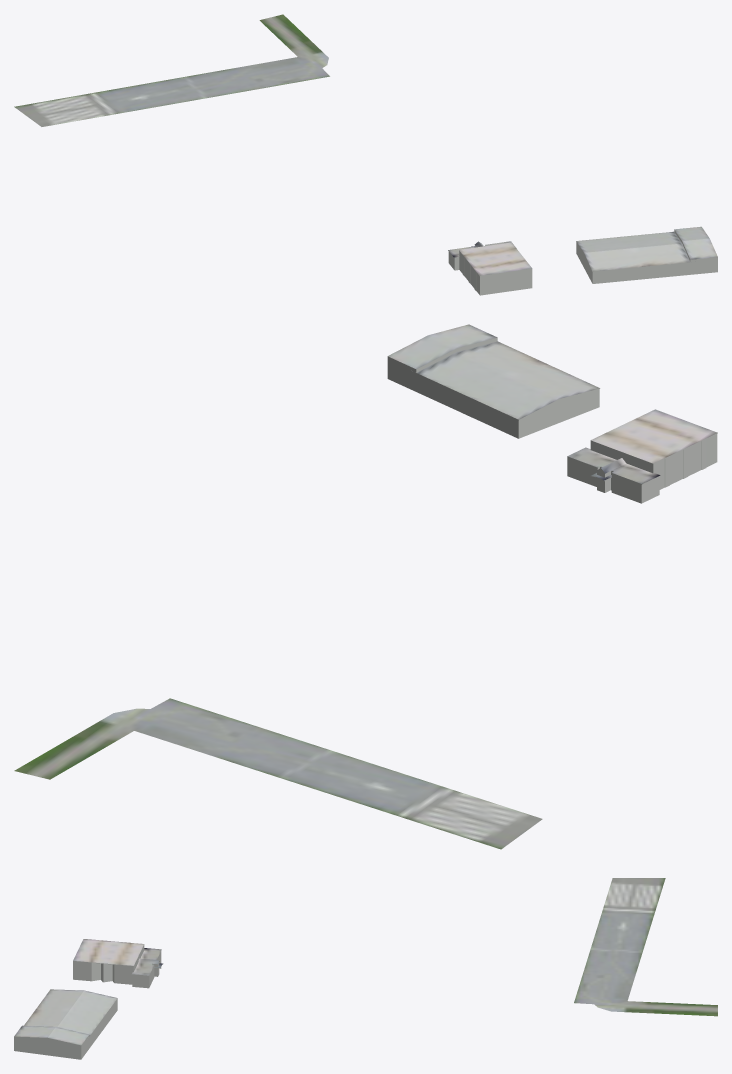
File: LSZR_1_-1.glb
The picture shows the model from 3 angles, top to bottom: view 1: azimuth 30°, elevation 25°; view 2: azimuth 150°, elevation 25°; view 3: azimuth 270°, elevation 25°; orthographic projection. The views are drawn at different scales.
Parts seen in each view (by area): view 1: pavement_LSZR_pavement_5521_2522, building_1269689c1b02b16c, building_eebd660e1e6f10bd; view 2: pavement_LSZR_pavement_5521_2522, building_1269689c1b02b16c, building_eebd660e1e6f10bd; view 3: pavement_LSZR_pavement_5521_2522, building_1269689c1b02b16c, building_eebd660e1e6f10bd.
Boxes of the visible parts, x1,y1,x2,y2 form: pavement_LSZR_pavement_5521_2522: (14, 14, 329, 126); building_1269689c1b02b16c: (448, 226, 717, 276); building_eebd660e1e6f10bd: (448, 230, 717, 295); pavement_LSZR_pavement_5521_2522: (14, 698, 542, 849); building_1269689c1b02b16c: (387, 324, 717, 484); building_eebd660e1e6f10bd: (387, 338, 717, 503); pavement_LSZR_pavement_5521_2522: (574, 878, 717, 1016); building_1269689c1b02b16c: (14, 939, 163, 1045); building_eebd660e1e6f10bd: (14, 945, 161, 1059).
Bounding box in the file's own units: 240 × 11.87 × 401.
Materials: 3 (2 with a texture image).
